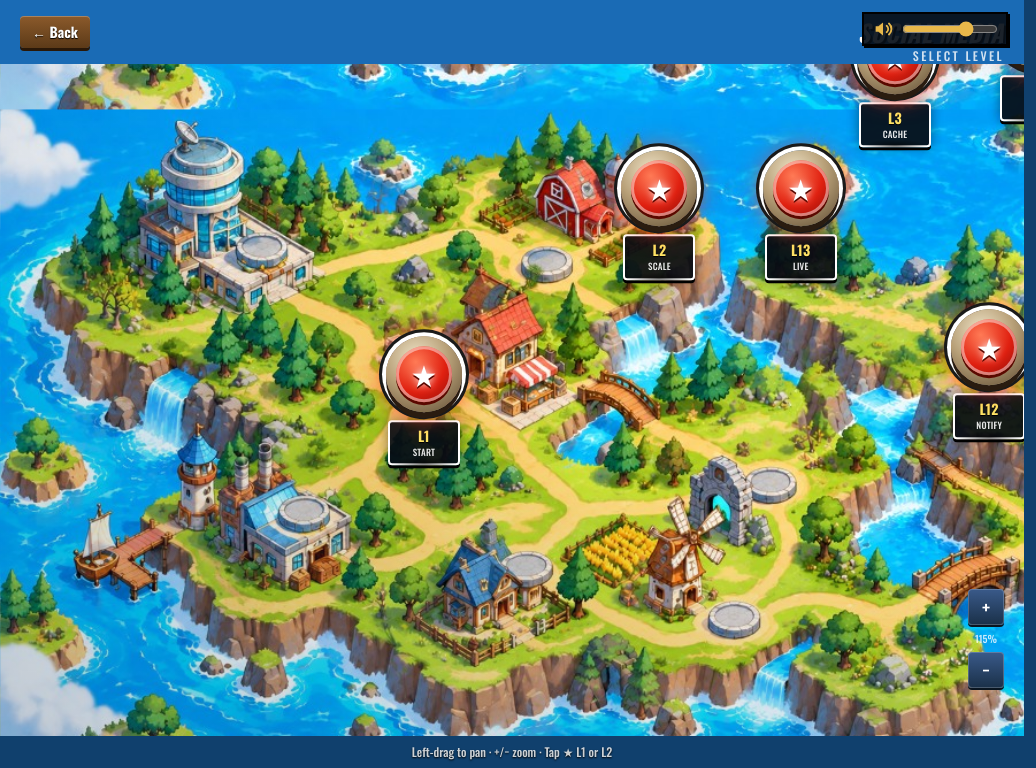
it: LevelMapPage › zooms in when plus is pressed
(page scrolled)
Expected: the text "115%" is shown, [975,631,997,646]
Click the button named "zoom in": (986, 607) [968,589,1004,625]
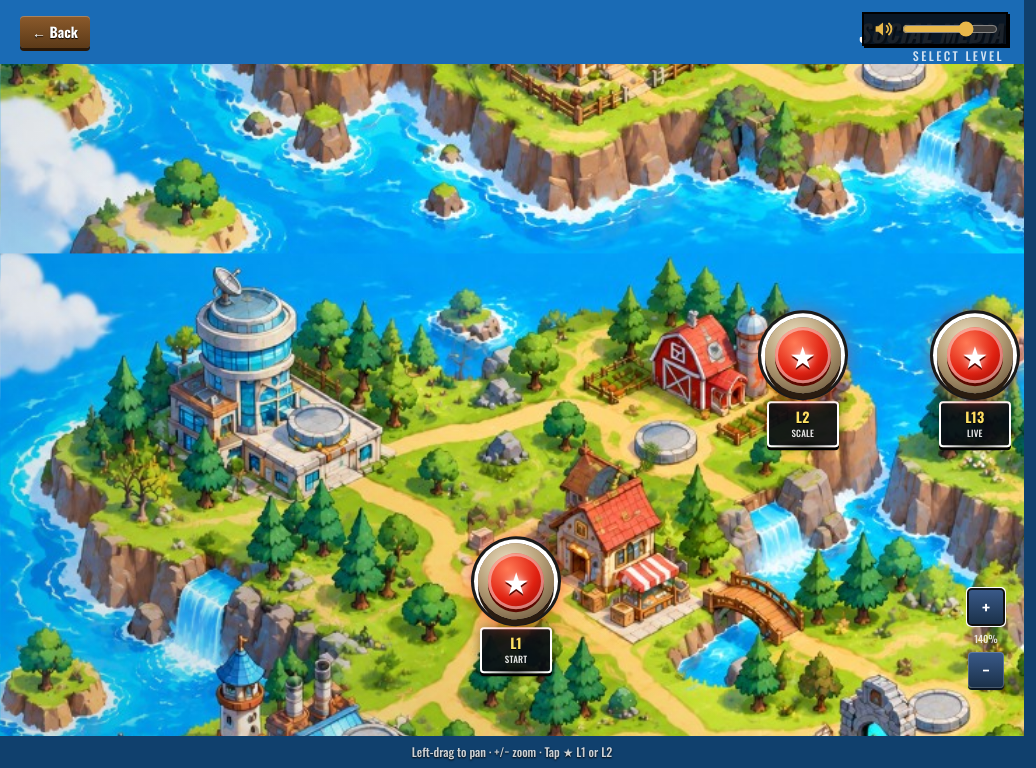
Expected: the text "140%" is shown, [974,631,998,646]
